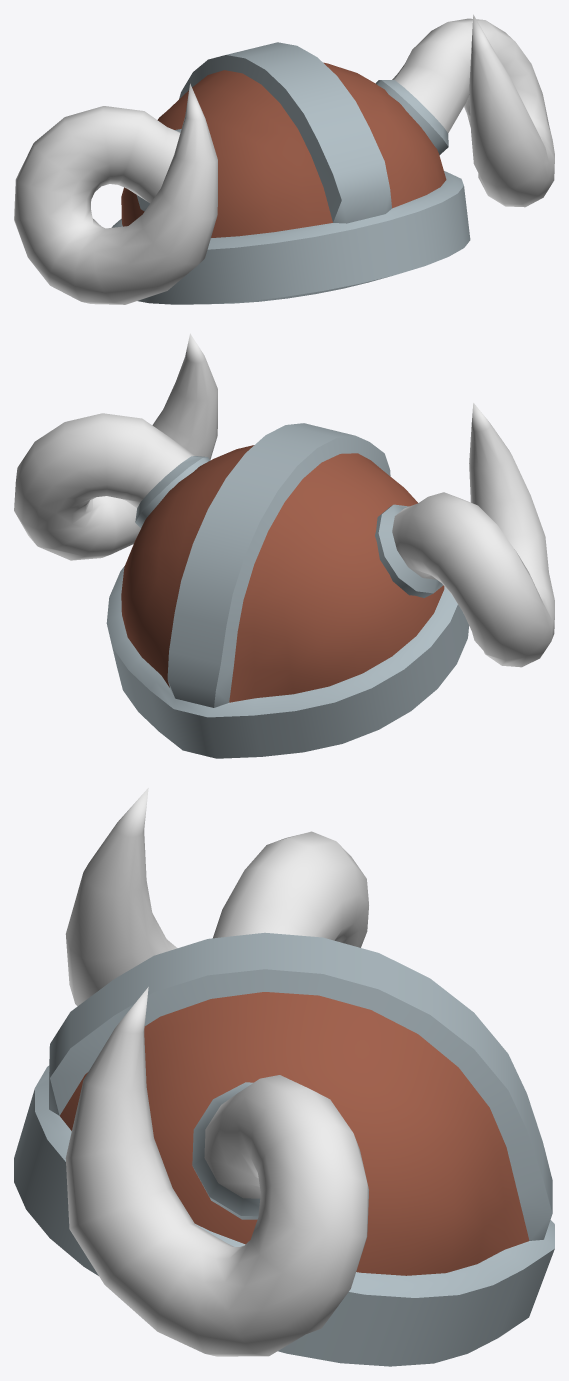
File: vikingHelmet.gltf.glb
3 views of the same model, one above another, from view 1: azimuth 30°, elevation 25°; view 2: azimuth 150°, elevation 25°; view 3: azimuth 270°, elevation 25° (orthographic). The views are drawn at different scales.
Visible parts, largest first — view 1: vikingHelmet; view 2: vikingHelmet; view 3: vikingHelmet.
Part boxes in pixels (left/top/right/bottom): vikingHelmet: left=14, top=14, right=554, bottom=304; vikingHelmet: left=14, top=333, right=554, bottom=758; vikingHelmet: left=14, top=788, right=554, bottom=1366.
Bounding box in the file's own units: 1.95 × 1.04 × 1.22.
